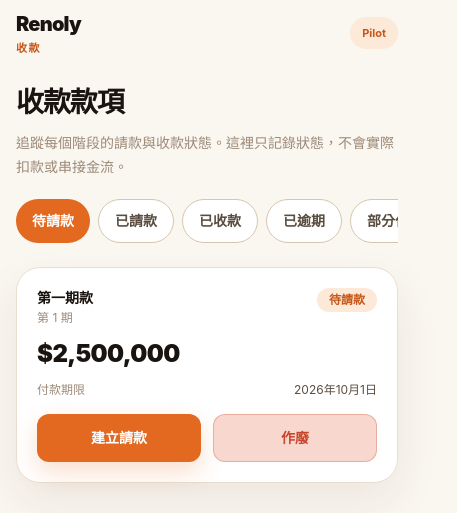
Test case: PaymentsView › shows an honest not-supported empty state on the 部分付款 tab
The width and height of the screenshot is (457, 513).
Step 1. Click the tab "部分付款" → click(395, 220), box [350, 198, 440, 242]
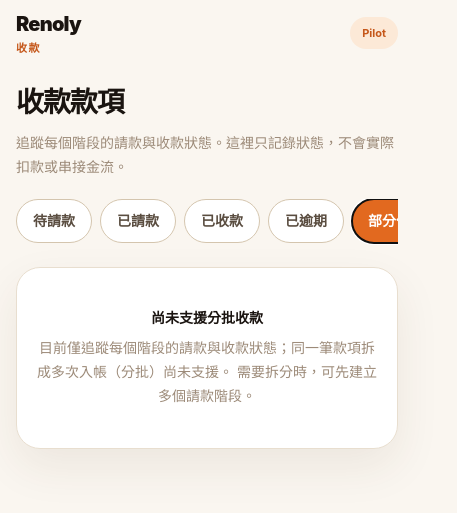
Result: the text "尚未支援分批收款" is shown at [151, 308, 263, 326]
